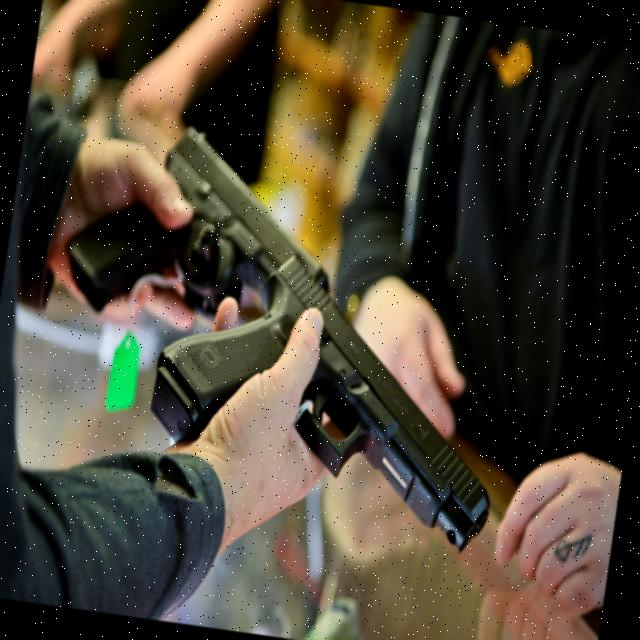Handgun: (137, 238, 518, 542), (48, 108, 352, 342)
